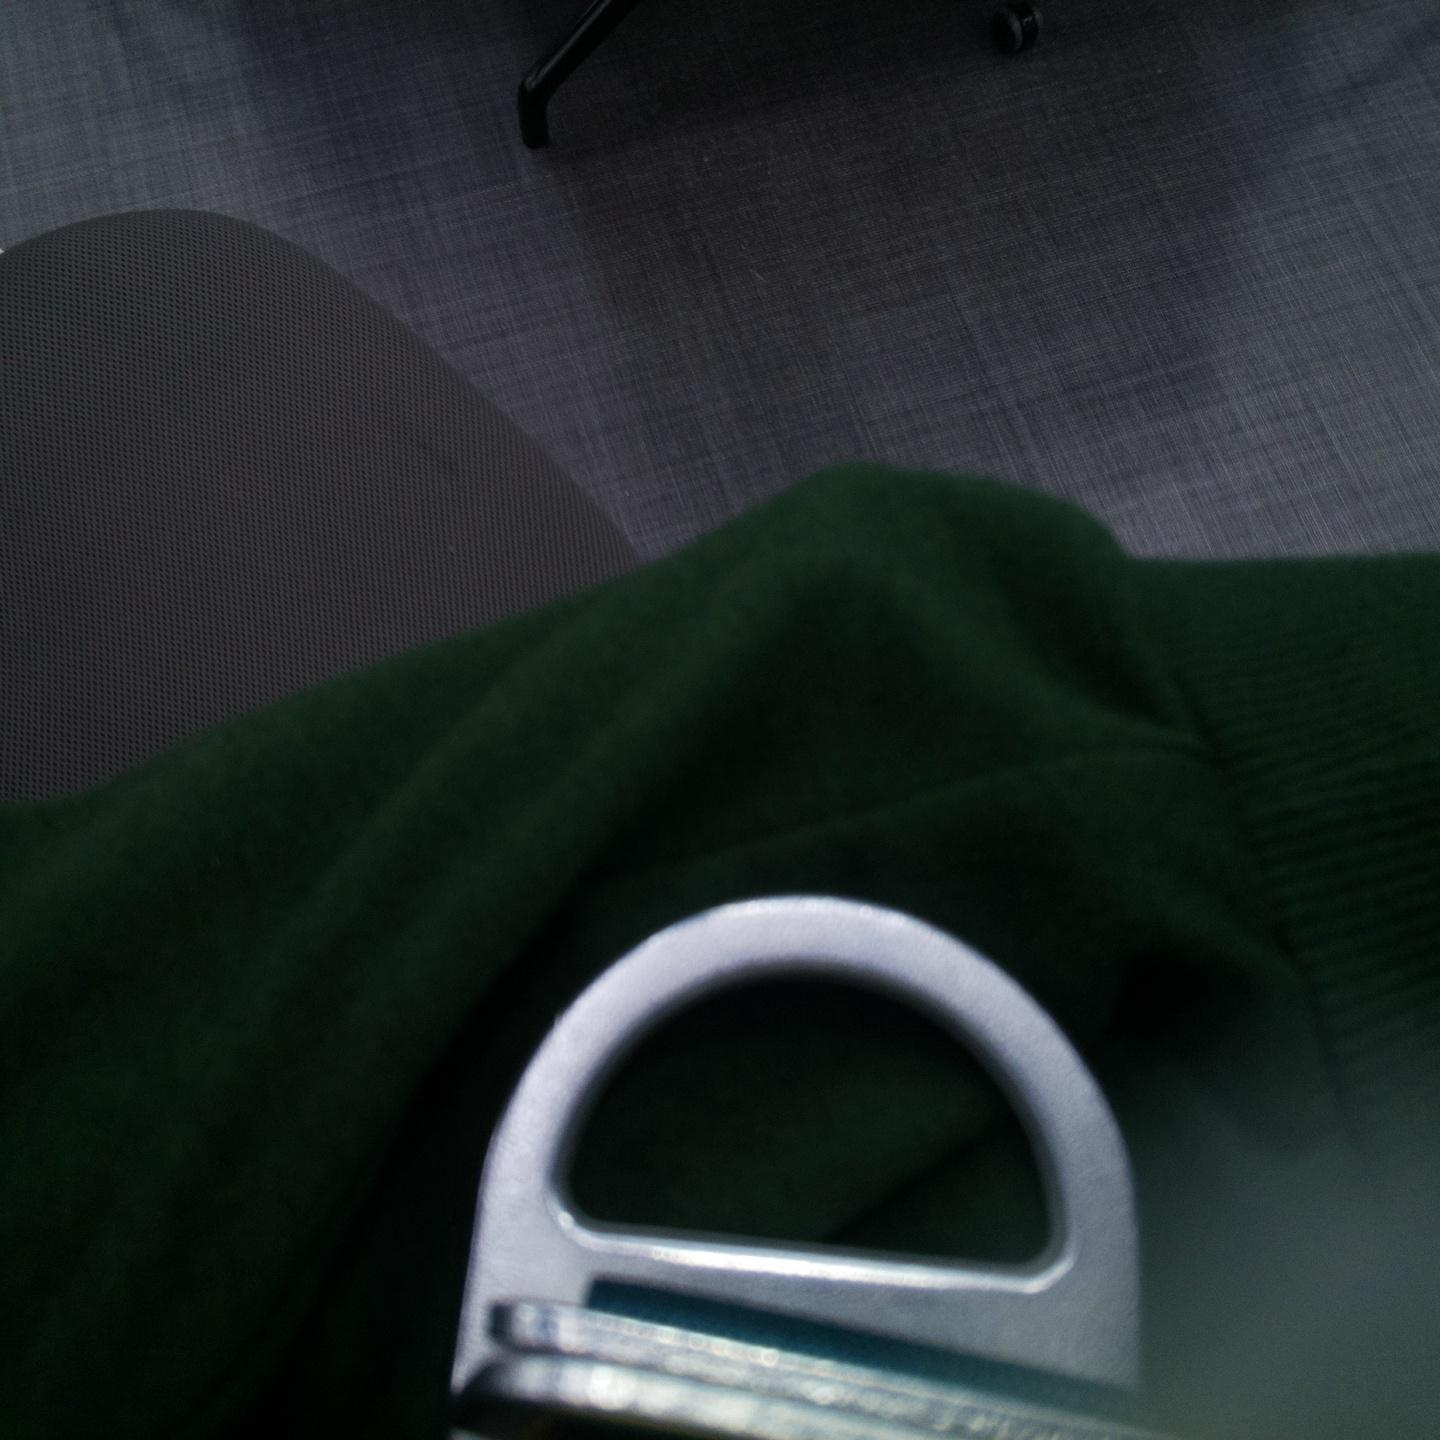UNSUCCESS: (471, 882, 1135, 1327)
